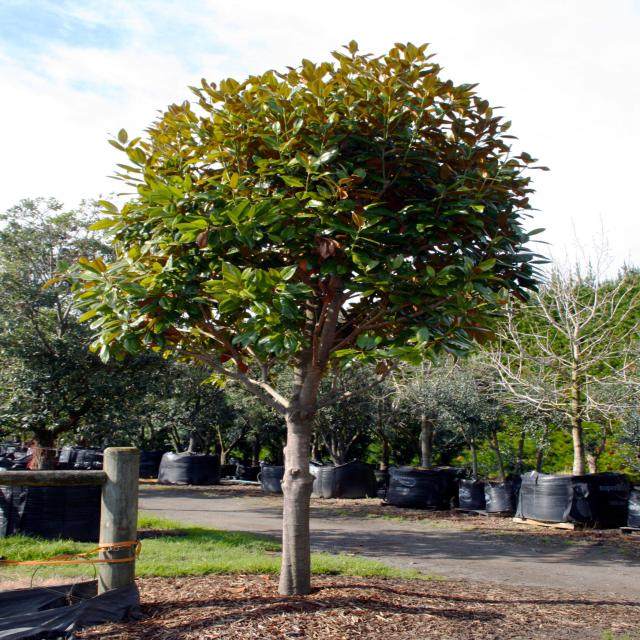Magnolia grandiflora: (62, 44, 534, 592)
